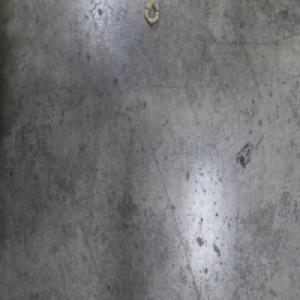Nut: (144, 0, 160, 28)
